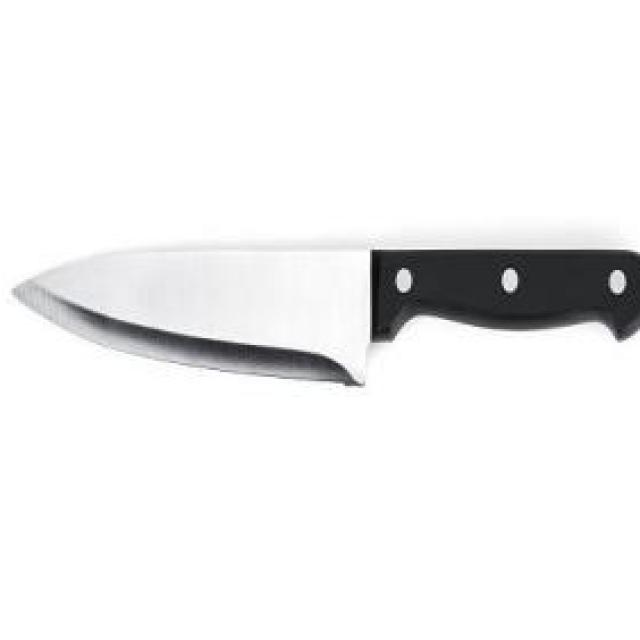knife: (11, 240, 640, 384)
